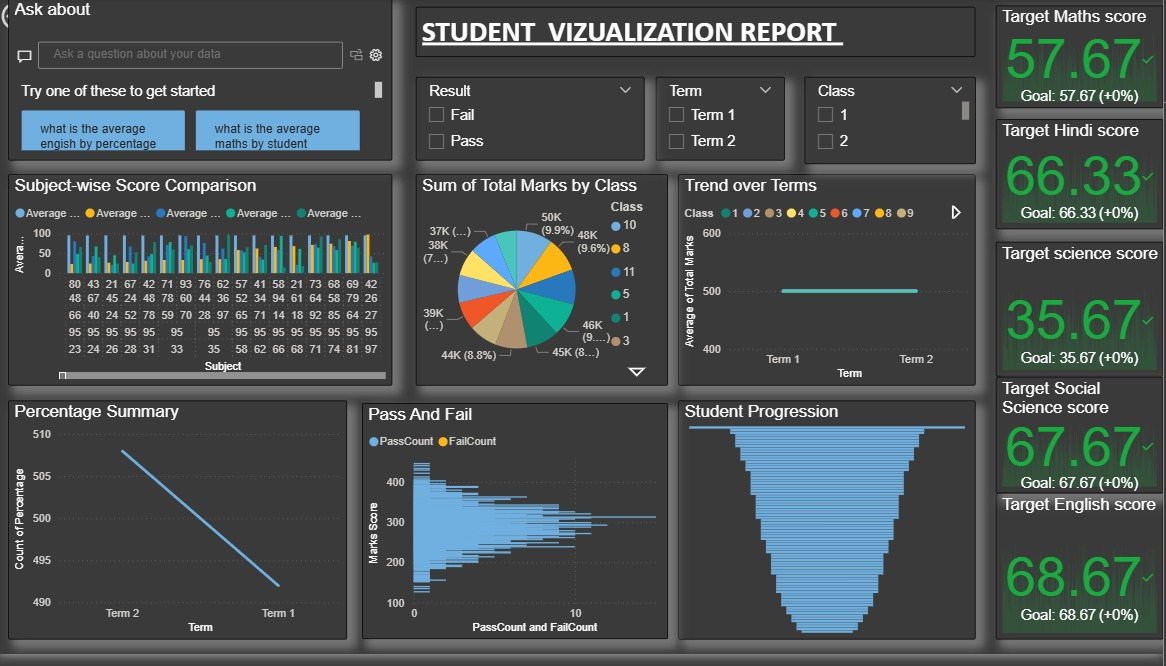

The dashboard page shown, as its layout file describes it:
{"tool":"powerbi","page":{"name":"Page 1","canvas":[1280,720],"ordinal":0},"visuals":[{"type":"kpi","title":"Target Maths score ","fields":{"TrendLine":["MOCK_DATA (7).Student ID"],"Goal":["MOCK_DATA (7).Target Maths Score"],"Indicator":["MOCK_DATA (7).Average Maths"]},"box":[1096.4,8.2,183.9,112.5],"z":0},{"type":"kpi","title":"Target English score ","fields":{"Indicator":["MOCK_DATA (7).Average Engish"],"TrendLine":["MOCK_DATA (7).Student ID"],"Goal":["MOCK_DATA (7).Target English Score"]},"box":[1096.4,554.4,183.9,149.6],"z":1000},{"type":"kpi","title":"Target Hindi score ","fields":{"TrendLine":["MOCK_DATA (7).Student ID"],"Indicator":["MOCK_DATA (7).Average Hindi"],"Goal":["MOCK_DATA (7).Target Hindi Score"]},"box":[1096.4,133.1,183.9,120.8],"z":2000},{"type":"kpi","title":"Target science score ","fields":{"Indicator":["MOCK_DATA (7).Average Science"],"Goal":["MOCK_DATA (7).Target Science Score"],"TrendLine":["MOCK_DATA (7).Student ID"]},"box":[1096.4,267.6,183.9,148.2],"z":3000},{"type":"kpi","title":"Target Social Science score ","fields":{"Indicator":["MOCK_DATA (7).Average Social science"],"TrendLine":["MOCK_DATA (7).Student ID"],"Goal":["MOCK_DATA (7).Target Social science  Score"]},"box":[1096.4,415.8,183.9,127.6],"z":4000},{"type":"clusteredColumnChart","title":"Subject-wise Score Comparison","fields":{"Y":["MOCK_DATA (7).Average Hindi","MOCK_DATA (7).Average Engish","MOCK_DATA (7).Average Maths","MOCK_DATA (7).Average Social science","MOCK_DATA (7).Average Science"],"Category":["MOCK_DATA (7).English","MOCK_DATA (7).Hindi","MOCK_DATA (7).Science","MOCK_DATA (7).Social Science","MOCK_DATA (7).Maths"]},"box":[12.3,193.5,421.3,231.9],"z":5000},{"type":"lineChart","title":"Trend over Terms","fields":{"Category":["MOCK_DATA (7).Term"],"Y":["Avg(MOCK_DATA (7).Total Marks)"],"Series":["MOCK_DATA (7).Class"]},"box":[747.9,193.5,326.6,231.9],"z":6000},{"type":"pieChart","fields":{"Category":["MOCK_DATA (7).Class"],"Y":["Sum(MOCK_DATA (7).Total Marks)"]},"box":[459.7,193.5,277.2,231.9],"z":7000},{"type":"slicer","fields":{"Values":["MOCK_DATA (7).Class"]},"box":[886.5,86.4,188,96.1],"z":8000},{"type":"funnel","title":"Student Progression","fields":{"Y":["Sum(MOCK_DATA (7).Total Marks)"],"Category":["MOCK_DATA (7).English","MOCK_DATA (7).Hindi","MOCK_DATA (7).Maths","MOCK_DATA (7).Science","MOCK_DATA (7).Social Science"]},"box":[747.9,441.9,326.6,262.1],"z":9000},{"type":"lineChart","title":"Percentage Summary","fields":{"Category":["MOCK_DATA (7).Term"],"Y":["CountNonNull(MOCK_DATA (7).Percentage)"]},"box":[12.3,441.9,371.9,262.1],"z":10000},{"type":"barChart","title":"Pass And Fail","fields":{"Category":["MOCK_DATA (7).Marks Score"],"Y":["MOCK_DATA (7).PassCount","MOCK_DATA (7).FailCount"]},"box":[400.7,444.6,336.2,259.3],"z":11000},{"type":"slicer","fields":{"Values":["MOCK_DATA (7).Term"]},"box":[723.2,86.4,141.3,91.9],"z":12000},{"type":"actionButton","box":[0,0,100,40],"z":13000},{"type":"slicer","fields":{"Values":["MOCK_DATA (7).Result"]},"box":[459.7,86.4,251.1,91.9],"z":14000},{"type":"qnaVisual","title":"Ask about ","box":[12.3,0,421.3,178.4],"z":15000},{"type":"textbox","box":[459.7,9.6,614.8,54.9],"z":16000}]}

Visuals, with their boxes in screenshot pixels (x1, y1, x2, y2):
"Target Maths score " kpi: region(991, 16, 1156, 118)
"Target English score " kpi: region(991, 507, 1156, 642)
"Target Hindi score " kpi: region(991, 129, 1156, 237)
"Target science score " kpi: region(991, 250, 1156, 383)
"Target Social Science score " kpi: region(991, 383, 1156, 497)
"Subject-wise Score Comparison" clusteredColumnChart: region(17, 183, 396, 391)
"Trend over Terms" lineChart: region(678, 183, 971, 391)
pieChart - MOCK_DATA (7).Class x Sum(MOCK_DATA (7).Total Marks): region(419, 183, 668, 391)
slicer - MOCK_DATA (7).Class: region(802, 87, 971, 173)
"Student Progression" funnel: region(678, 406, 971, 642)
"Percentage Summary" lineChart: region(17, 406, 351, 642)
"Pass And Fail" barChart: region(366, 409, 668, 641)
slicer - MOCK_DATA (7).Term: region(656, 87, 783, 169)
actionButton: region(6, 9, 96, 45)
slicer - MOCK_DATA (7).Result: region(419, 87, 645, 169)
"Ask about " qnaVisual: region(17, 9, 396, 169)
textbox: region(419, 18, 971, 67)
